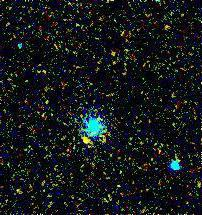star: (71, 125, 101, 155)
